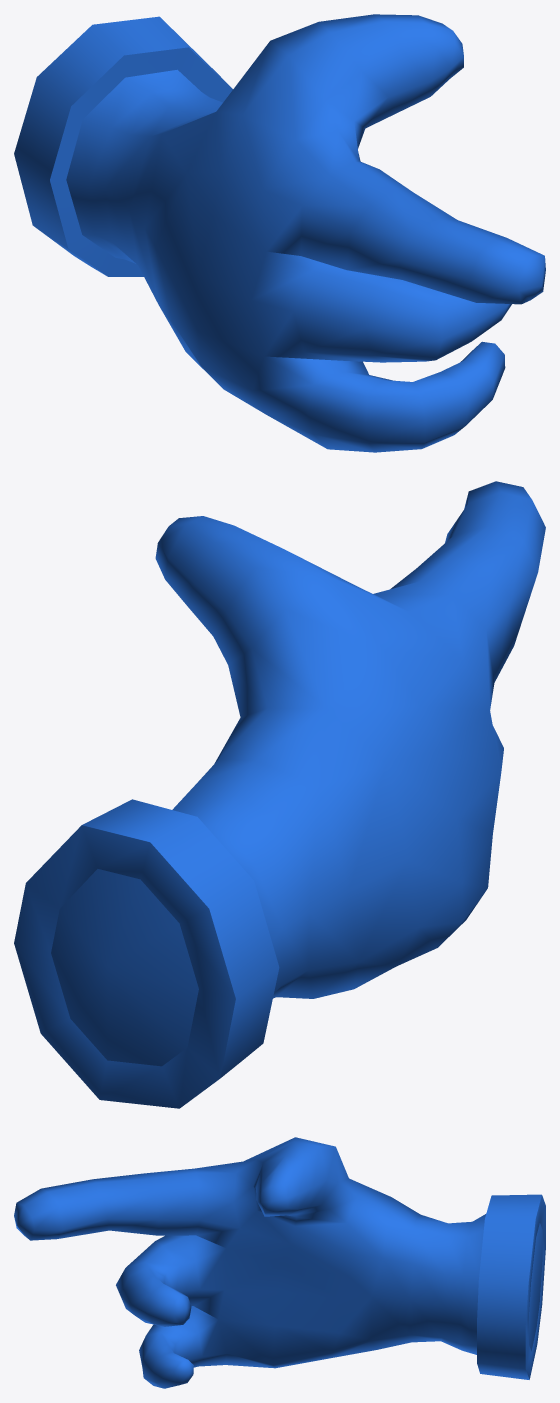
The model's file is hand_new.fbx.
3 renders of one model, top to bottom at view 1: azimuth 30°, elevation 25°; view 2: azimuth 150°, elevation 25°; view 3: azimuth 270°, elevation 25°, orthographic. The views are drawn at different scales.
Visible parts, largest first — view 1: Hand_new; view 2: Hand_new; view 3: Hand_new.
Part boxes in pixels (<box>): Hand_new: <box>14,14,545,452</box>; Hand_new: <box>14,481,545,1108</box>; Hand_new: <box>14,1137,545,1388</box>.
Bounding box in the file's own units: 90.69 × 118 × 229.
